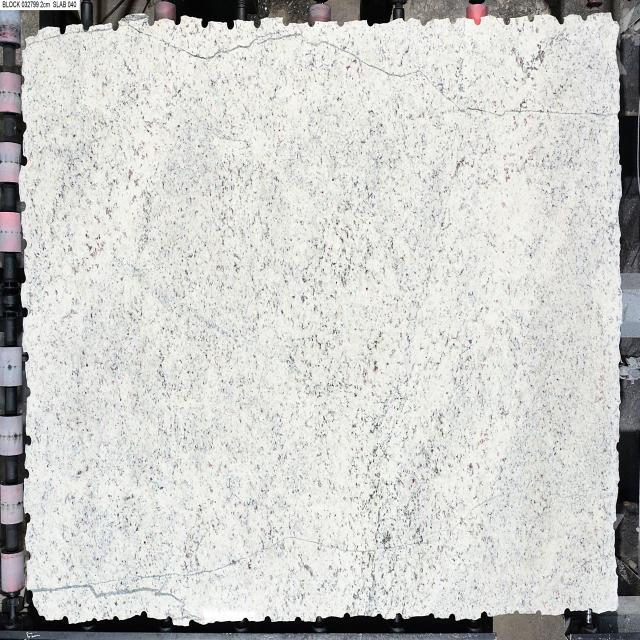chapa: (20, 16, 621, 624)
furo: (22, 582, 49, 625)
veio: (55, 24, 69, 40), (18, 151, 30, 169), (22, 464, 32, 485), (144, 13, 156, 30), (20, 347, 30, 365), (23, 431, 33, 449), (22, 509, 32, 525), (199, 16, 210, 29), (139, 607, 150, 620), (20, 306, 30, 320), (110, 18, 120, 32), (172, 12, 182, 26), (62, 614, 71, 629), (555, 14, 567, 25), (394, 611, 404, 624), (25, 546, 33, 562), (166, 614, 174, 629), (18, 199, 27, 212), (282, 15, 291, 28), (252, 18, 262, 29), (502, 16, 512, 27), (479, 610, 489, 621), (227, 18, 235, 31), (263, 615, 272, 626), (294, 616, 304, 625), (448, 612, 458, 621), (82, 23, 90, 34)
